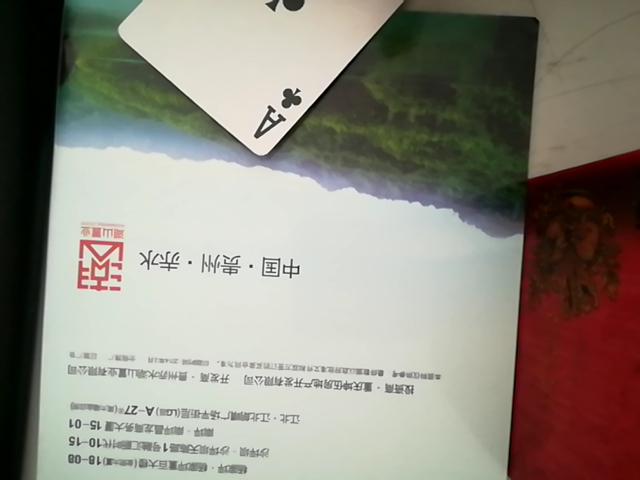mh a: (100, 0, 480, 167)
